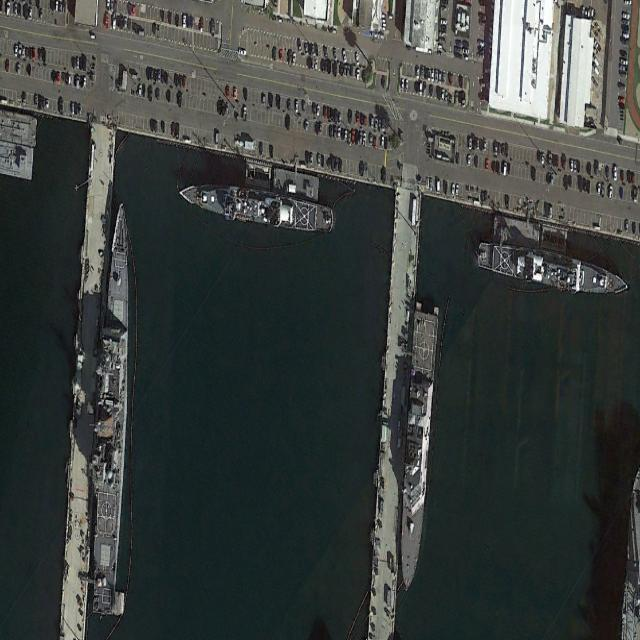Cruiser: (88, 197, 136, 618)
Other Ship: (393, 304, 439, 594), (476, 232, 629, 303), (177, 172, 335, 238)
